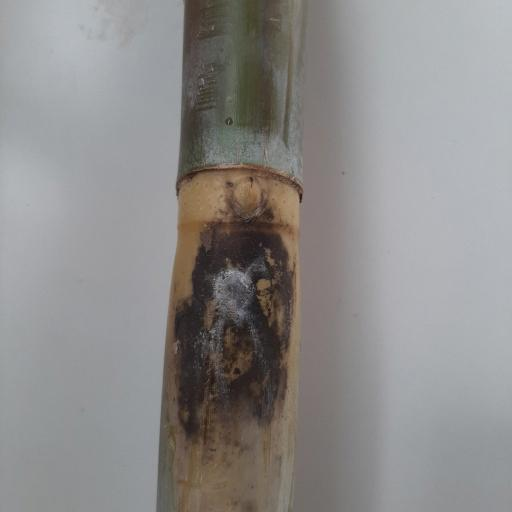Bud: (222, 175, 267, 218)
